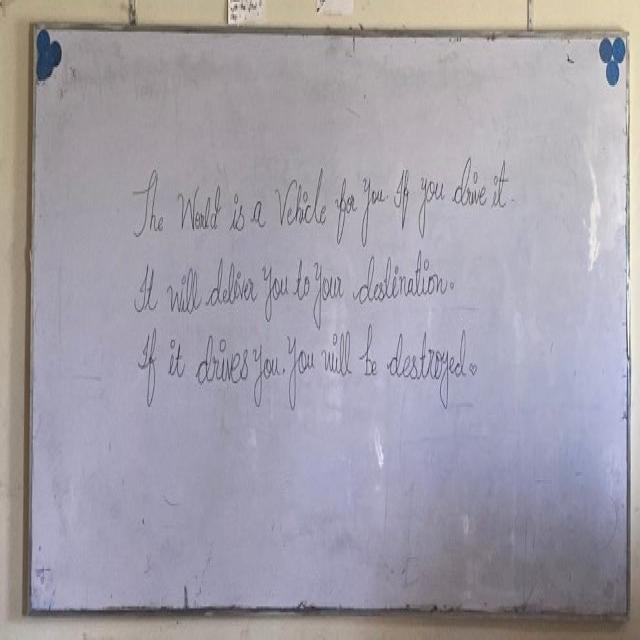White-board: (29, 35, 626, 611)
